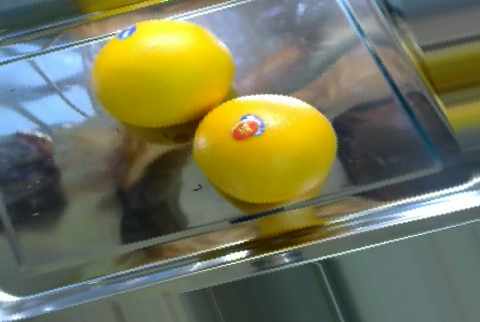Orange: (193, 94, 339, 202), (90, 19, 235, 127)
